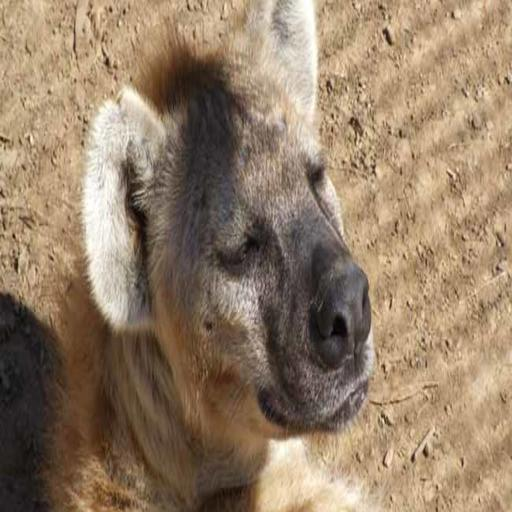Hyena: (38, 0, 380, 512)
